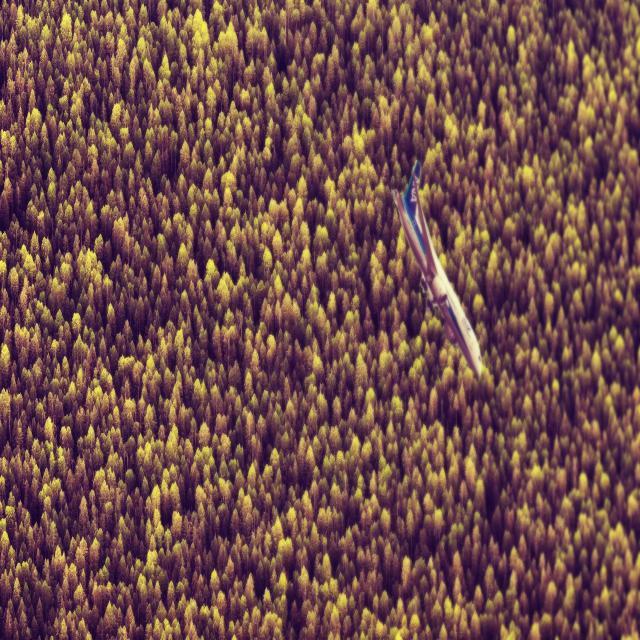airplane: (391, 158, 482, 381)
